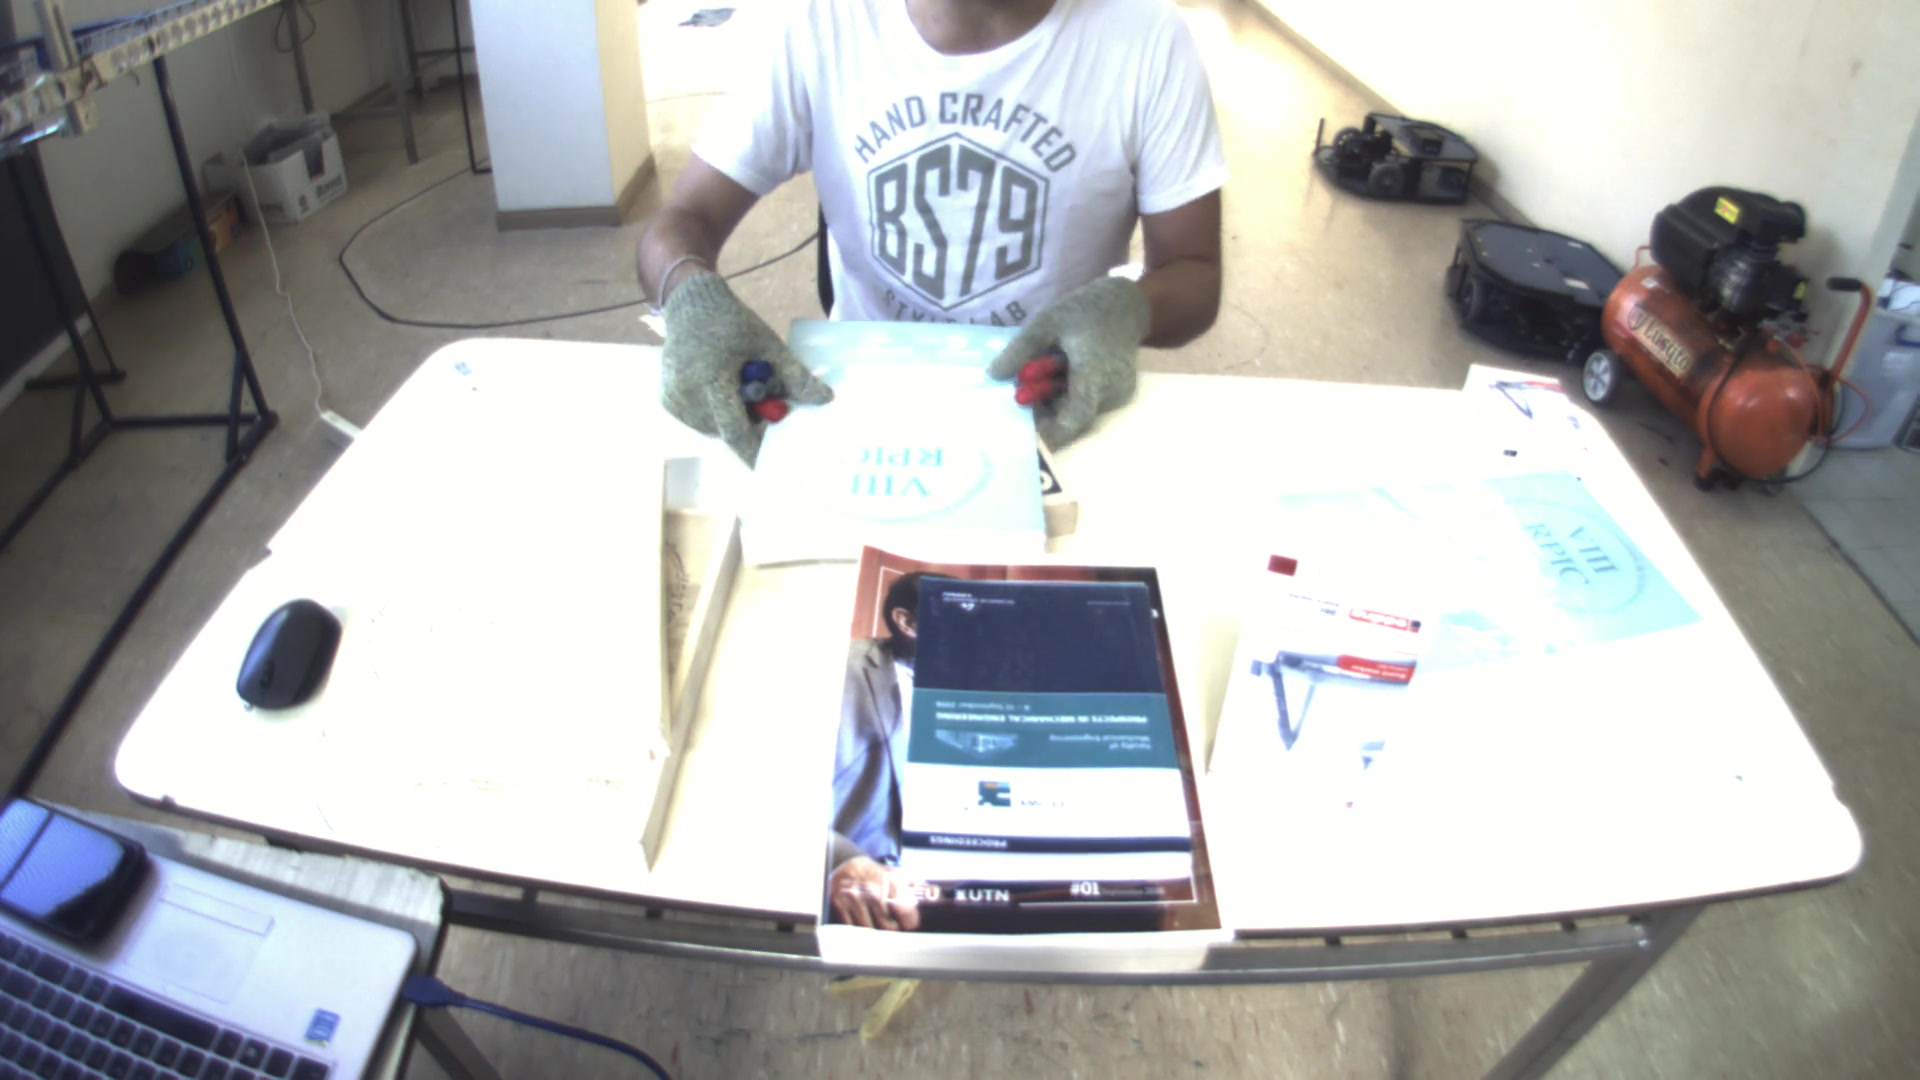hand: (640, 265, 837, 452), (986, 266, 1166, 438)
